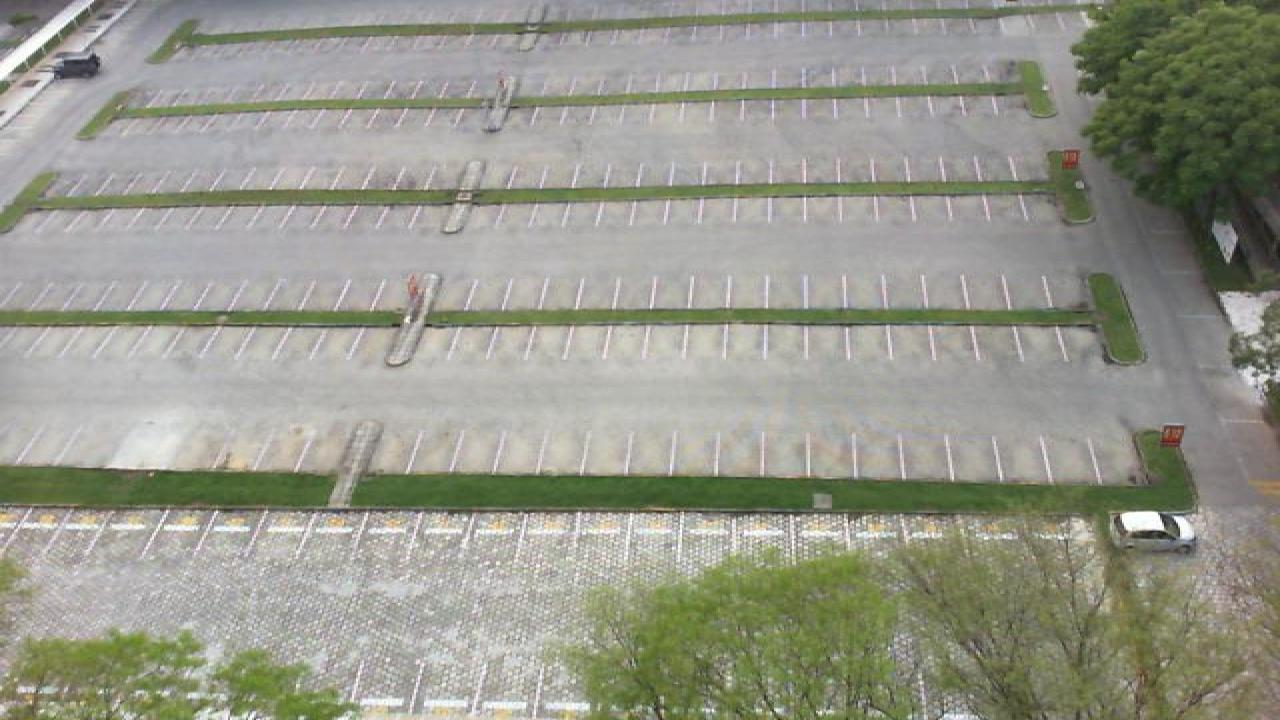Car: (1110, 510, 1198, 554), (50, 50, 102, 80)
